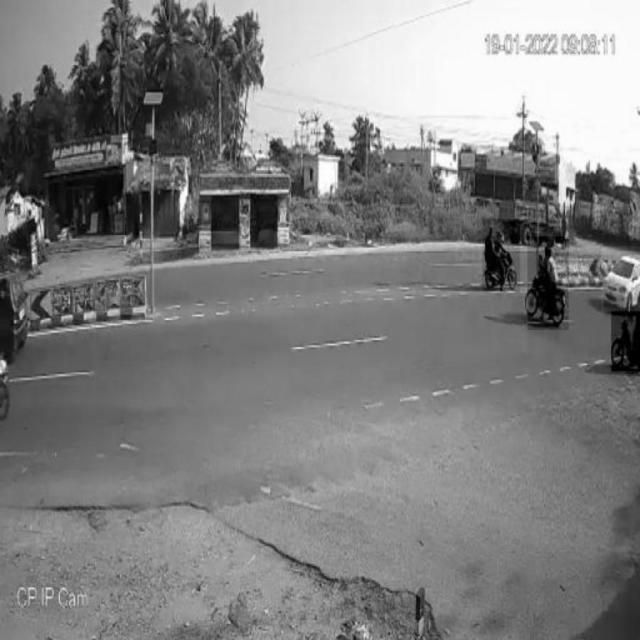vehicle: (528, 237, 569, 330), (483, 220, 520, 292), (601, 246, 640, 311), (611, 296, 640, 370)
